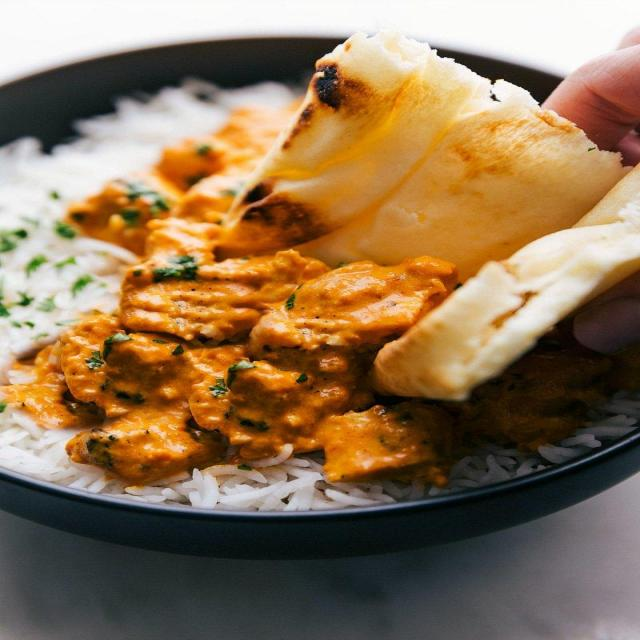chicken: (99, 184, 352, 464)
roti: (278, 51, 638, 377)
